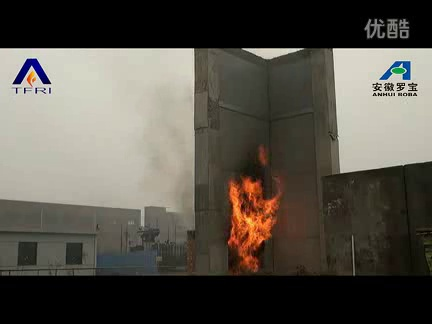fire: (221, 164, 284, 269)
